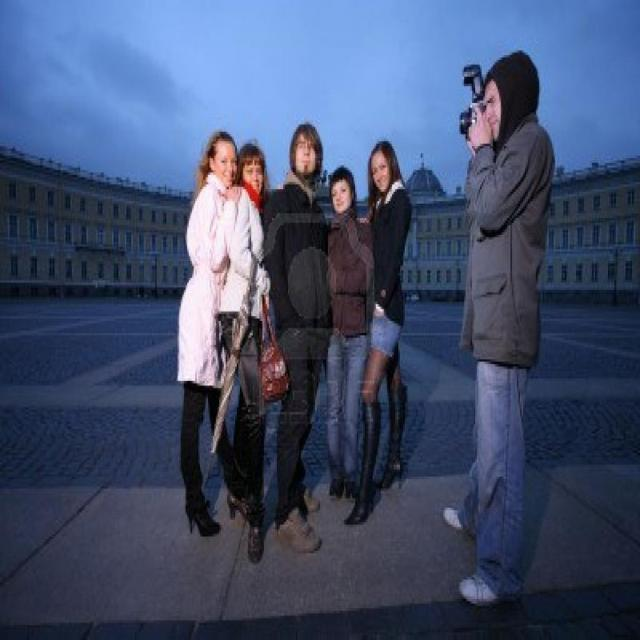nomask: (484, 76, 504, 138), (216, 142, 236, 185), (295, 134, 315, 173), (371, 150, 390, 190), (243, 157, 262, 195), (332, 178, 352, 213)
